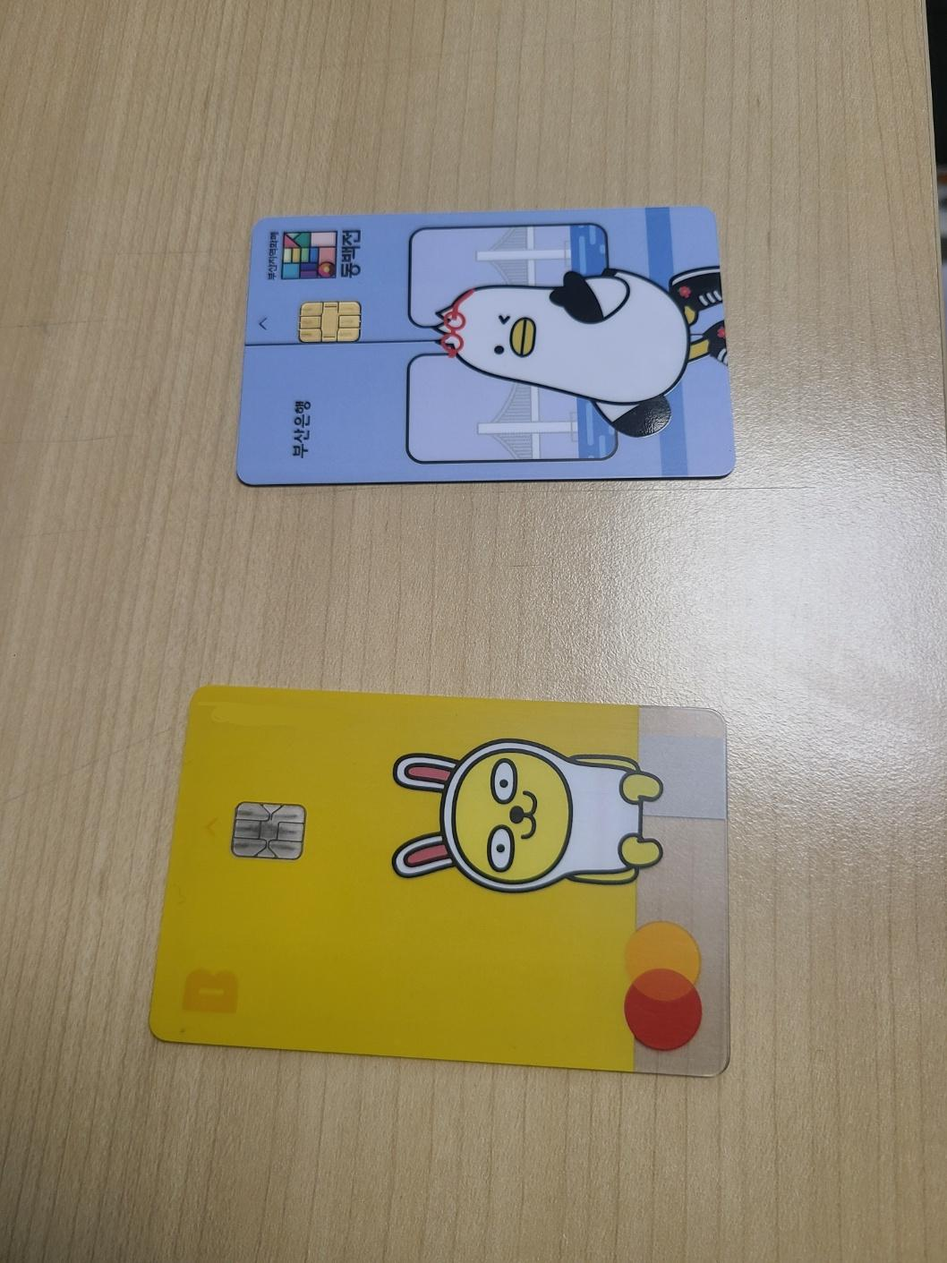Credit_card: (150, 687, 729, 1073), (237, 207, 734, 484)
